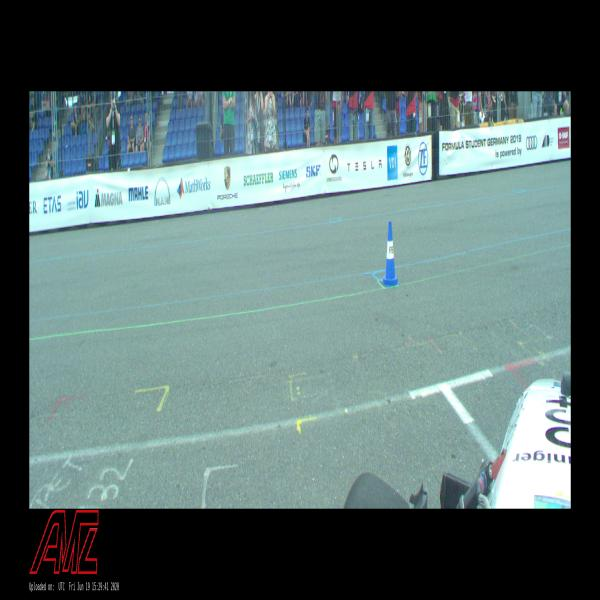blue_cone: (383, 222, 398, 286)
